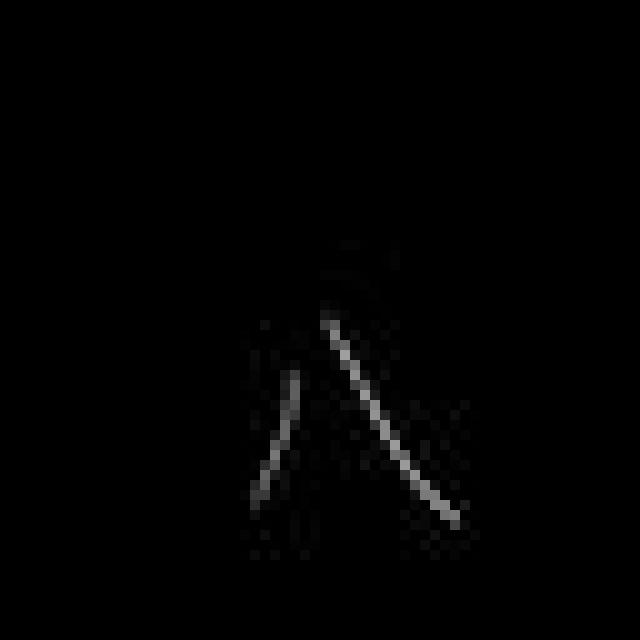8 -eight-: (238, 304, 468, 532)
